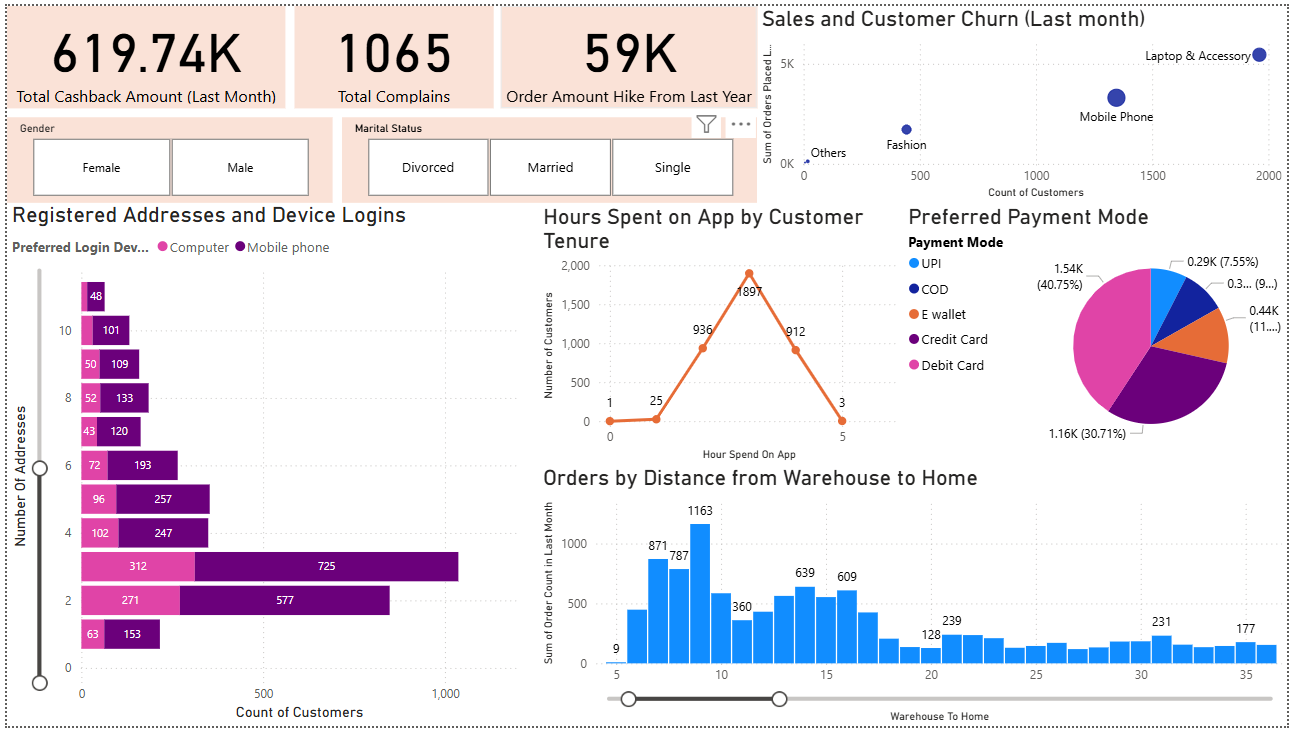

What the dashboard file says about the page in this screenshot:
{"tool":"powerbi","page":{"name":"Page 1","canvas":[1280,720],"ordinal":0},"visuals":[{"type":"barChart","title":"Customers with Preferred login device and number of addresses and registered devices","fields":{"Category":["E Comm.Number Of Addresses"],"Y":["CountNonNull(E Comm.CustomerID)"],"Series":["E Comm.Preferred Login Device"]},"box":[0,196.6,530.8,523.6],"z":0},{"type":"slicer","fields":{"Values":["E Comm.Gender"]},"box":[0,111,325.7,85.7],"z":1000},{"type":"slicer","fields":{"Values":["E Comm.Marital Status"]},"box":[335.4,111,415,85.7],"z":2000},{"type":"card","fields":{"Values":["Sum(E Comm.Cash back Amount in Last Month)"]},"box":[0,0,270,102.5],"z":3000},{"type":"scatterChart","title":"Sales and Customer Churn Last month ","fields":{"X":["CountNonNull(E Comm.CustomerID)"],"Y":["Sum(E Comm.Order Count in Last Month)"],"Category":["E Comm.Prefered Order Category in Last Month"],"Size":["Sum(E Comm.Churn)"]},"box":[750.4,0,529.6,197.9],"z":4000},{"type":"card","fields":{"Values":["Sum(E Comm.Complain in last month)"]},"box":[278.8,0,207.5,102.5],"z":5000},{"type":"pieChart","title":"Customer Preferred Payment Mode","fields":{"Y":["CountNonNull(E Comm.CustomerID)"],"Category":["E Comm.Preferred Payment Mode"]},"box":[896.4,197.9,383.6,261.8],"z":6000},{"type":"card","fields":{"Values":["Sum(E Comm.Order Amount Hike From last Year)"]},"box":[493.4,0,257,102.5],"z":7000},{"type":"clusteredColumnChart","title":"Orders based on Distance from Warehouse To Home","fields":{"Y":["Sum(E Comm.Order Count in Last Month)"],"Category":["E Comm.Warehouse To Home"]},"box":[530.8,458.4,749.2,261.8],"z":8000},{"type":"lineChart","title":"Tenure Customer Range by Hour Spend On App","fields":{"Category":["E Comm.Hour Spend On App"],"Y":["CountNonNull(E Comm.CustomerID)"]},"box":[530.8,197.9,365.6,261.8],"z":9000}]}

Visuals, with their boxes in screenshot pixels (x1, y1, x2, y2), scaled from the page's 1280x720 canvas onto the 1294x734 screenshot:
"Customers with Preferred login device and number of addresses and registered devices" barChart: crop(0, 200, 537, 733)
slicer - E Comm.Gender: crop(0, 113, 329, 201)
slicer - E Comm.Marital Status: crop(339, 113, 759, 201)
card - Sum(E Comm.Cash back Amount in Last Month): crop(0, 0, 273, 104)
"Sales and Customer Churn Last month " scatterChart: crop(759, 0, 1293, 202)
card - Sum(E Comm.Complain in last month): crop(282, 0, 492, 104)
"Customer Preferred Payment Mode" pieChart: crop(906, 202, 1293, 469)
card - Sum(E Comm.Order Amount Hike From last Year): crop(499, 0, 759, 104)
"Orders based on Distance from Warehouse To Home" clusteredColumnChart: crop(537, 467, 1293, 733)
"Tenure Customer Range by Hour Spend On App" lineChart: crop(537, 202, 906, 469)
